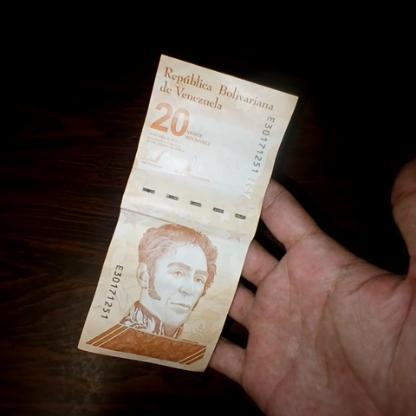twenty-front-vef: (75, 52, 298, 372)
